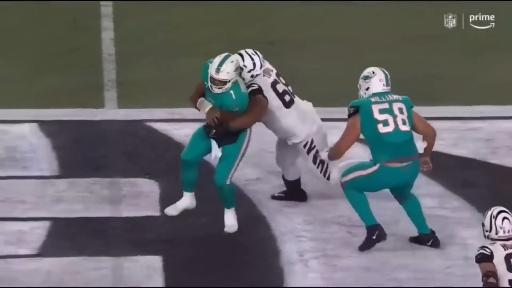Helmet: (209, 53, 239, 93), (358, 67, 390, 98), (235, 49, 265, 82), (482, 207, 511, 239)
Jersey: (247, 63, 321, 143), (348, 93, 418, 163), (202, 60, 248, 114), (475, 241, 511, 286)
Player: (326, 67, 440, 251), (165, 54, 250, 233), (236, 49, 331, 201), (475, 207, 511, 286)
